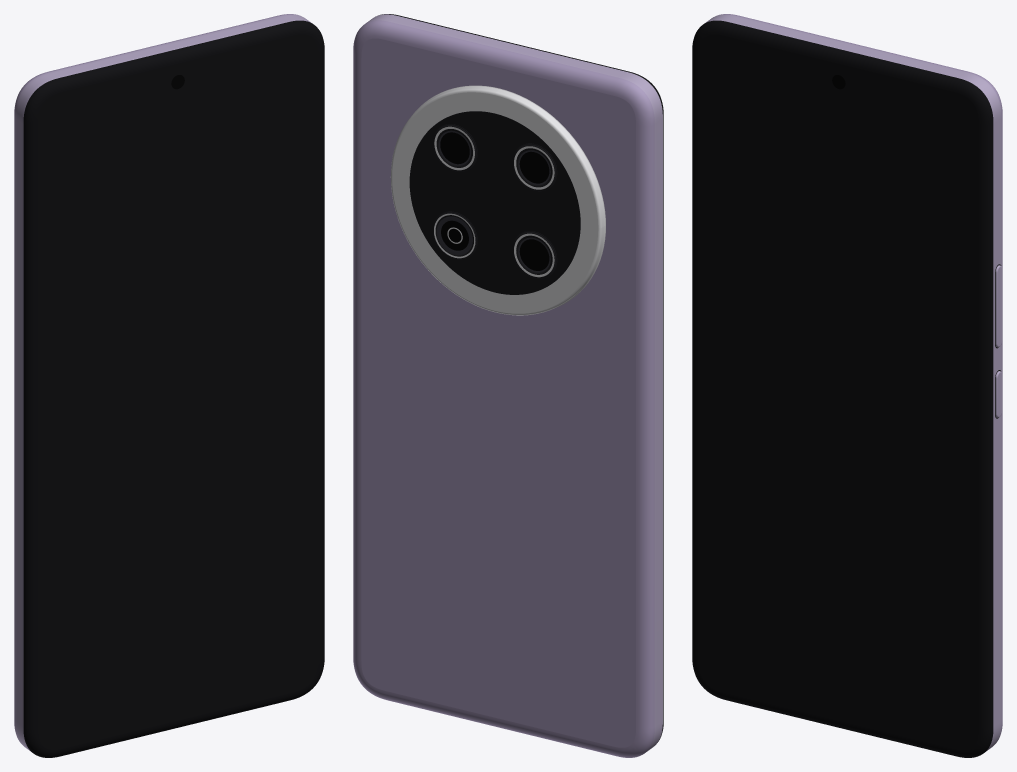
Rendered from honor-magic7-lite.glb.
The picture shows the model from 3 angles, left to right: view 1: azimuth 30°, elevation 25°; view 2: azimuth 150°, elevation 25°; view 3: azimuth 330°, elevation 25°; orthographic projection.
Parts seen in each view (by area): view 1: body; view 2: body, camera; view 3: body, buttons.
Boxes of the visible parts, x1=… form: body: x1=14, y1=14, x2=324, y2=757; body: x1=353, y1=14, x2=663, y2=757; camera: x1=390, y1=85, x2=605, y2=315; body: x1=692, y1=14, x2=1002, y2=757; buttons: x1=995, y1=264, x2=1002, y2=418.
Bounding box in the file's own units: 75.93 × 163 × 10.3.
